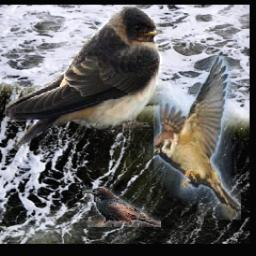Crow: (82, 188, 161, 228)
Sparrow: (154, 57, 241, 220)
Swallow: (5, 5, 165, 149)
